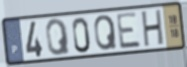0: (71, 15, 92, 54)
4: (24, 19, 45, 60)
E: (115, 11, 143, 51)
H: (141, 8, 165, 49)
Q: (44, 17, 72, 57), (93, 13, 118, 52)
